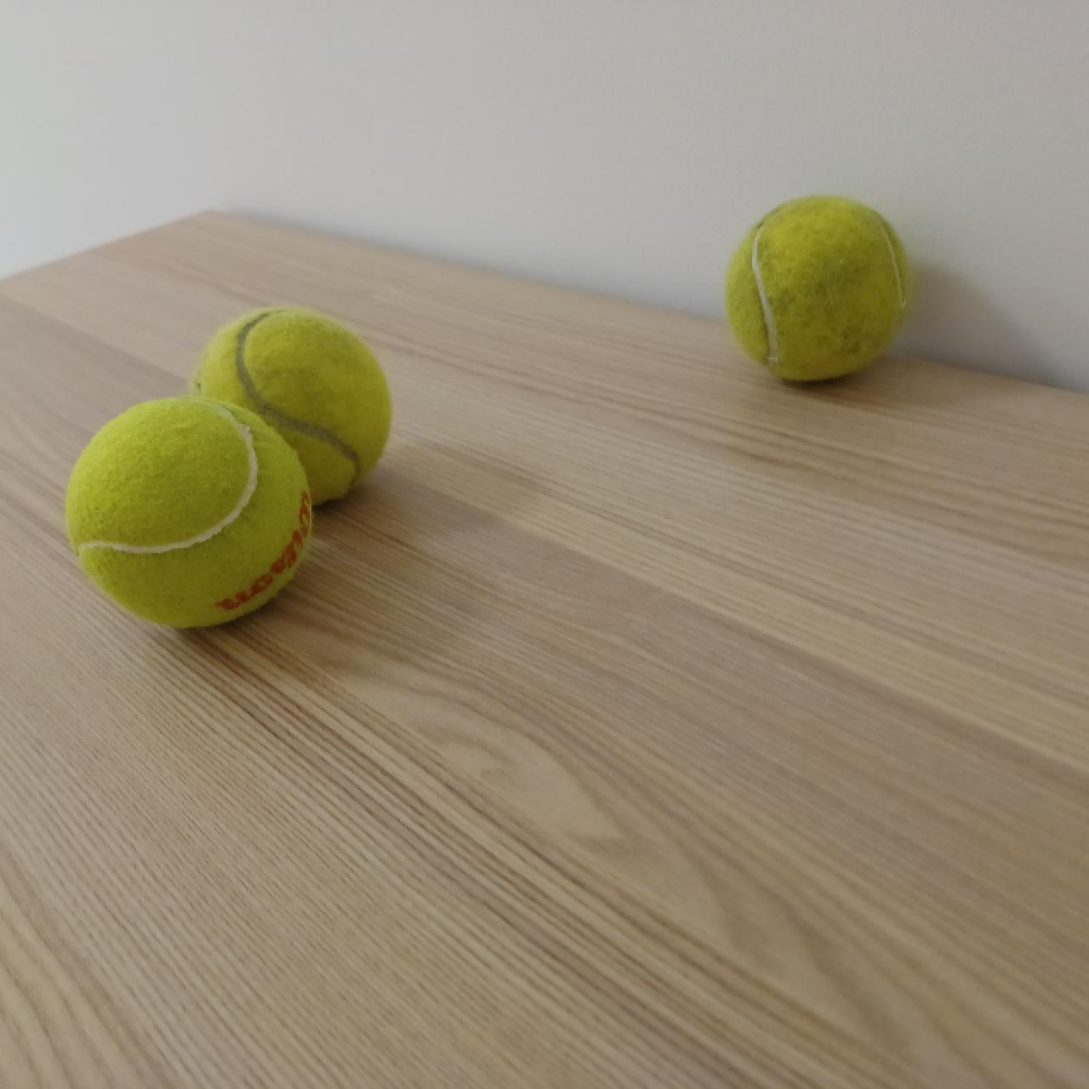tennis-ball: (65, 393, 313, 630), (197, 306, 391, 515), (725, 192, 912, 385)
